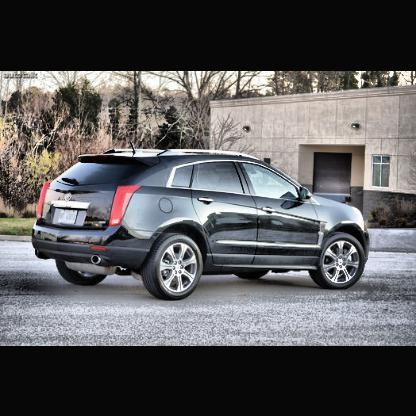Cadillac SRX SUV 2012: (33, 141, 372, 301)
